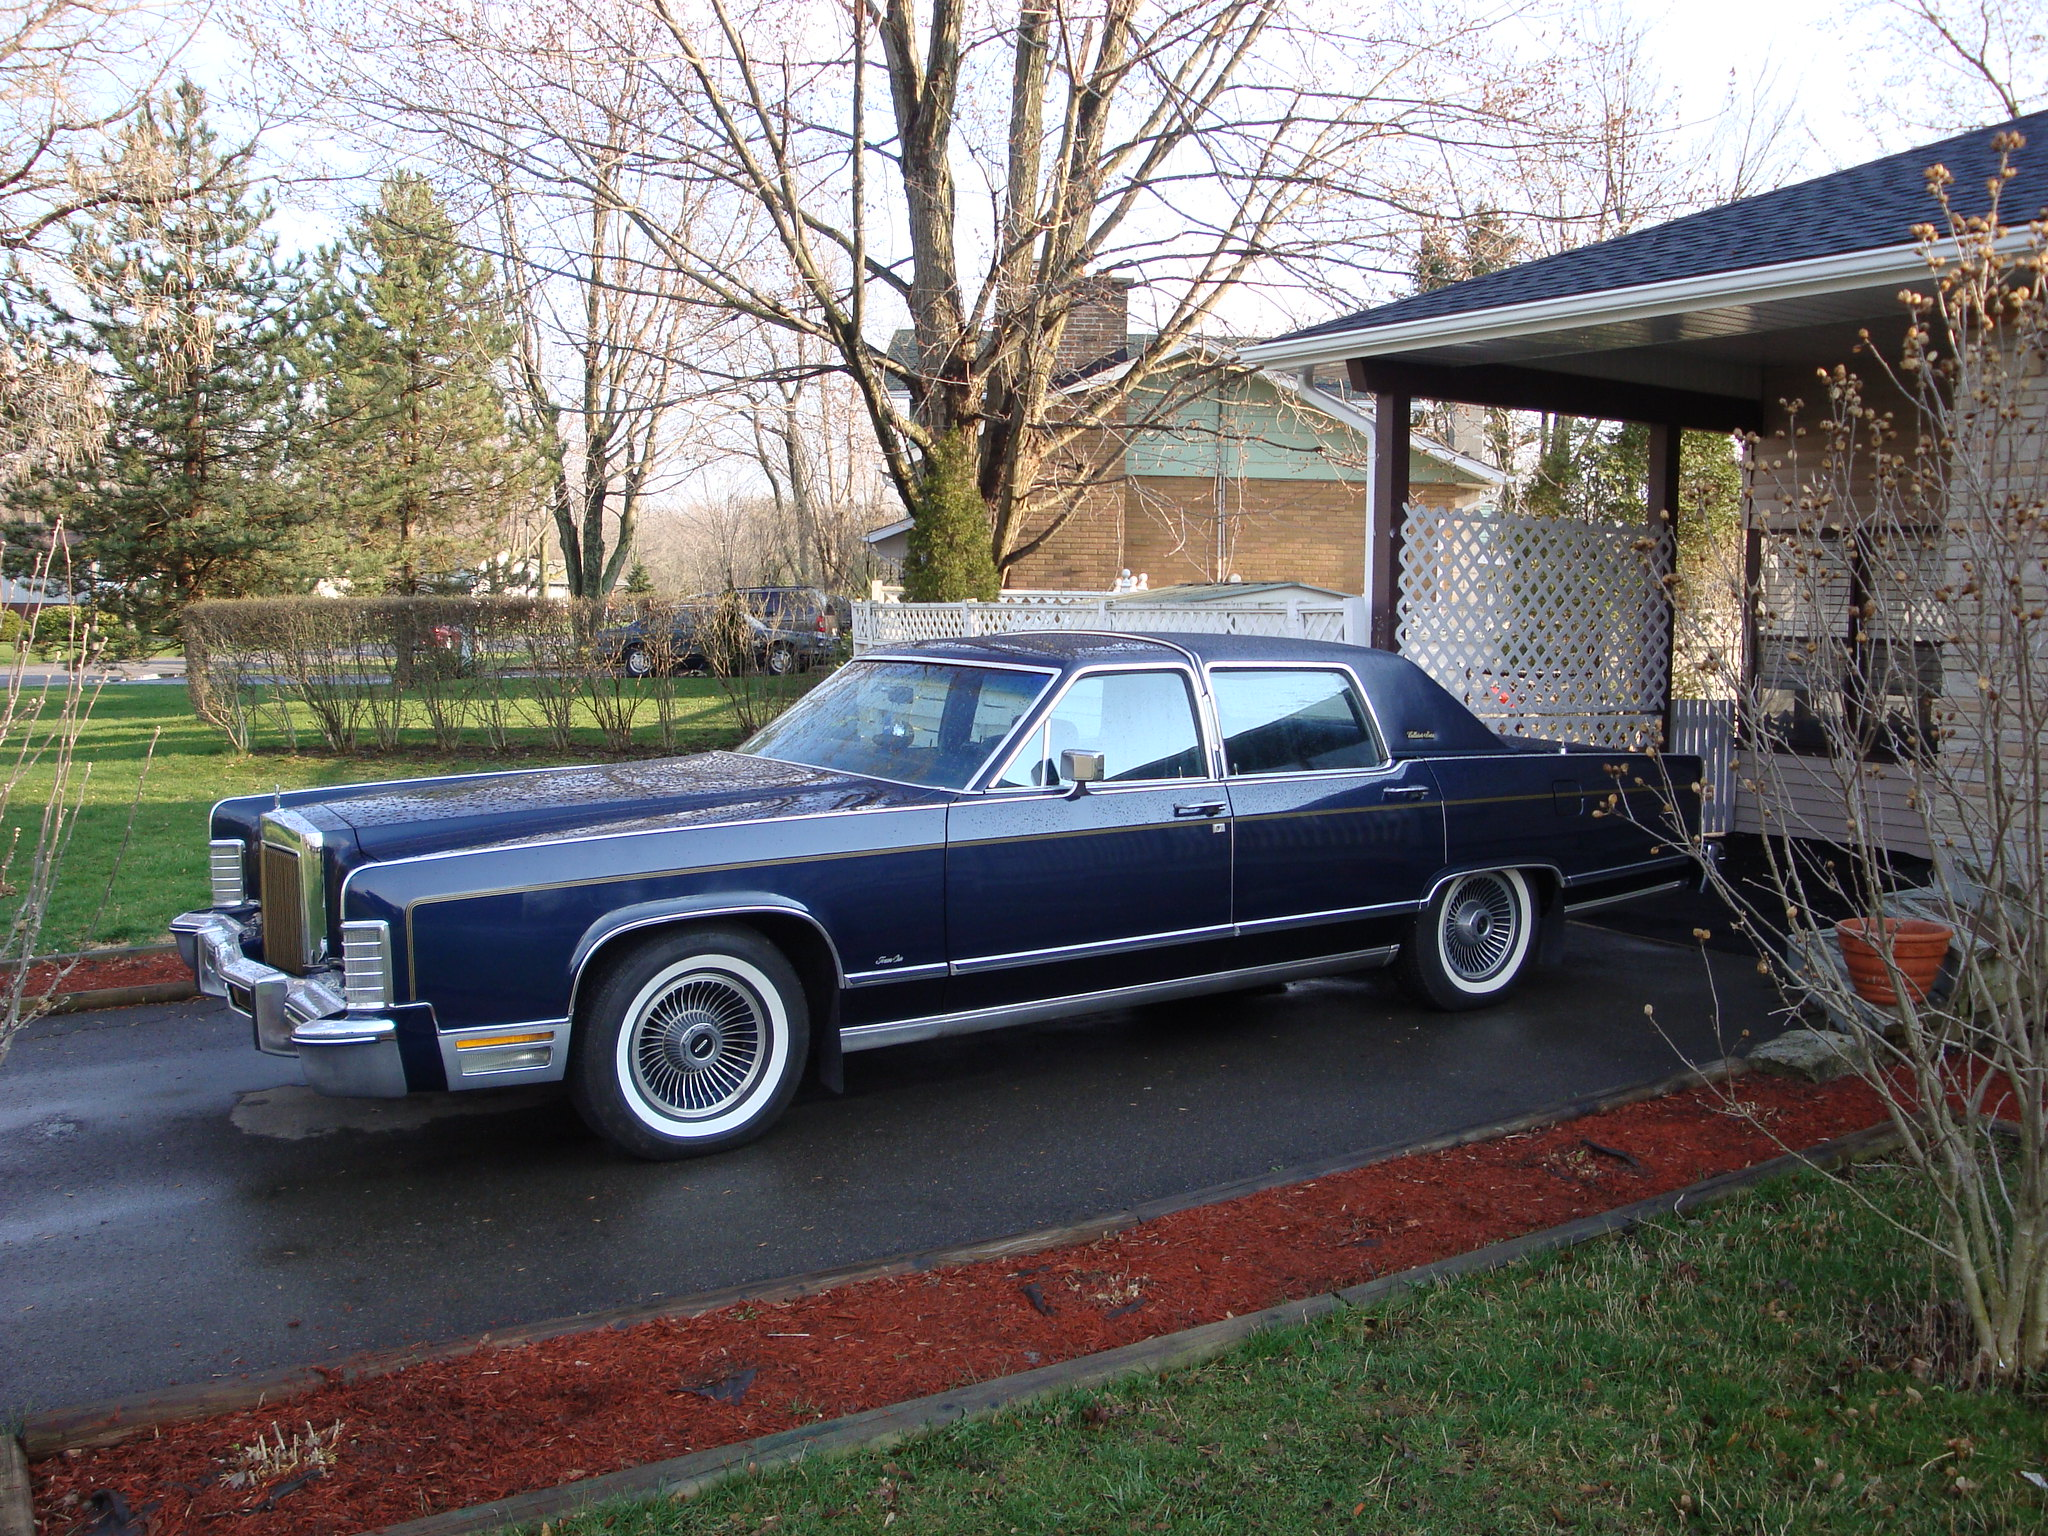car: (132, 595, 1705, 1150)
